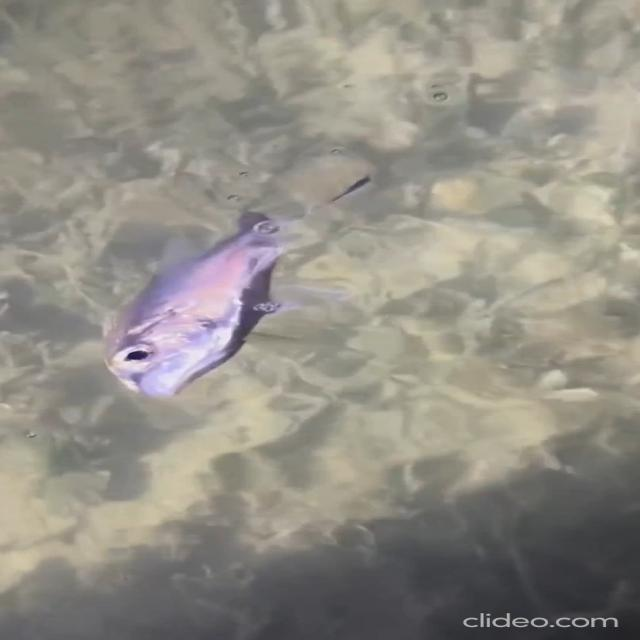fish: (97, 167, 400, 406)
